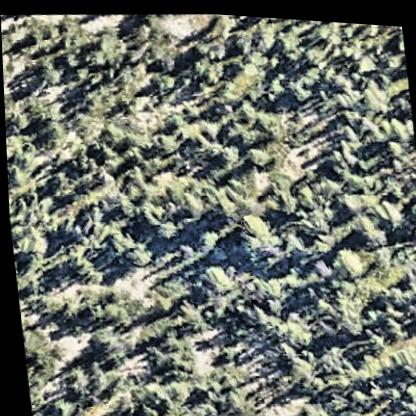tree-top: (82, 20, 131, 71), (103, 221, 150, 273), (68, 281, 116, 330), (192, 251, 235, 296), (328, 236, 368, 278), (234, 206, 272, 246), (272, 20, 308, 59), (60, 246, 96, 282), (57, 359, 89, 393), (215, 136, 246, 167), (84, 326, 117, 355), (148, 65, 179, 95), (284, 73, 314, 101), (148, 214, 177, 242), (4, 107, 32, 136), (240, 138, 269, 165), (42, 390, 71, 416), (192, 225, 218, 253), (380, 126, 405, 154), (380, 43, 405, 68), (284, 351, 309, 373), (336, 100, 359, 120), (403, 190, 416, 218), (1, 32, 8, 55)
